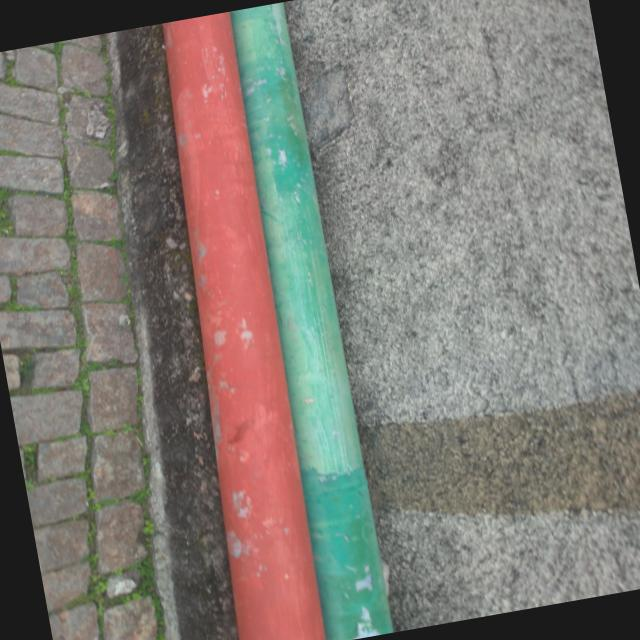gas: (161, 11, 326, 640), (232, 2, 393, 640)
